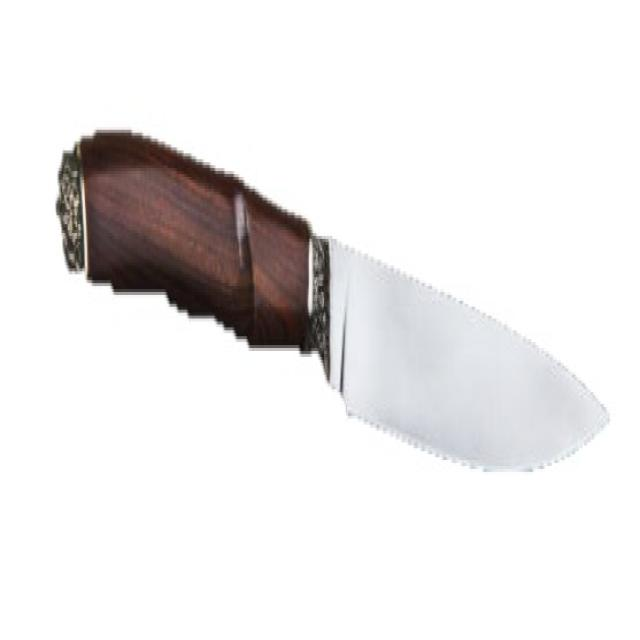knife: (53, 113, 614, 485)
